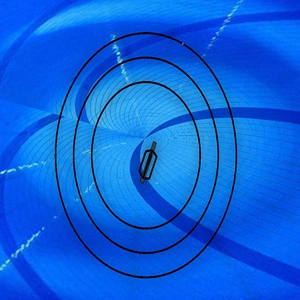circle: (54, 29, 240, 279)
submarine: (137, 140, 160, 186)
